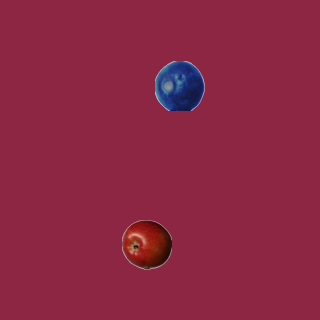Apple Braeburn: (121, 219, 171, 269)
Huckleberry: (154, 60, 204, 110)
